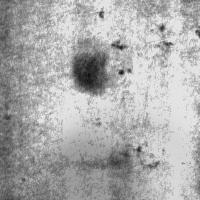patches: (45, 115, 197, 200), (32, 132, 146, 200), (68, 47, 107, 97)
